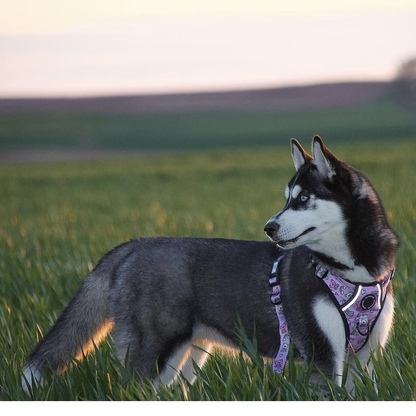husky: (16, 127, 404, 397)
